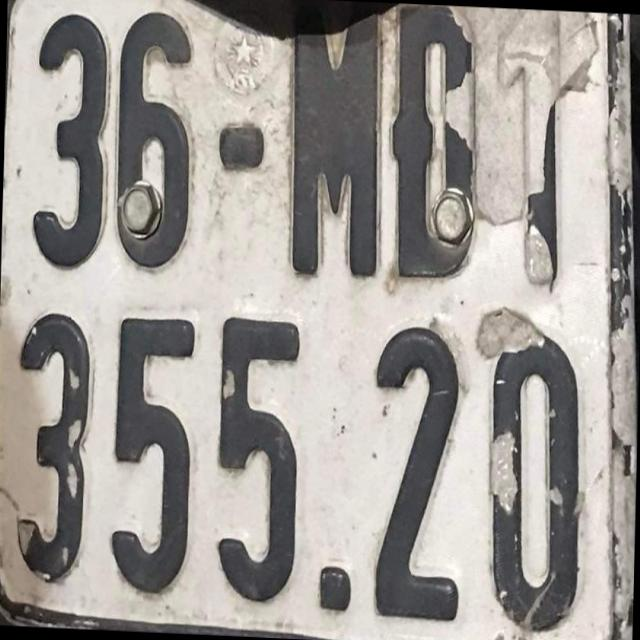0: (484, 319, 589, 640)
2: (363, 312, 470, 626)
3: (10, 306, 94, 584), (27, 9, 111, 274)
5: (211, 308, 306, 606), (106, 306, 196, 596)
6: (111, 5, 199, 273)
D: (385, 2, 480, 293)
M: (284, 3, 389, 293)
